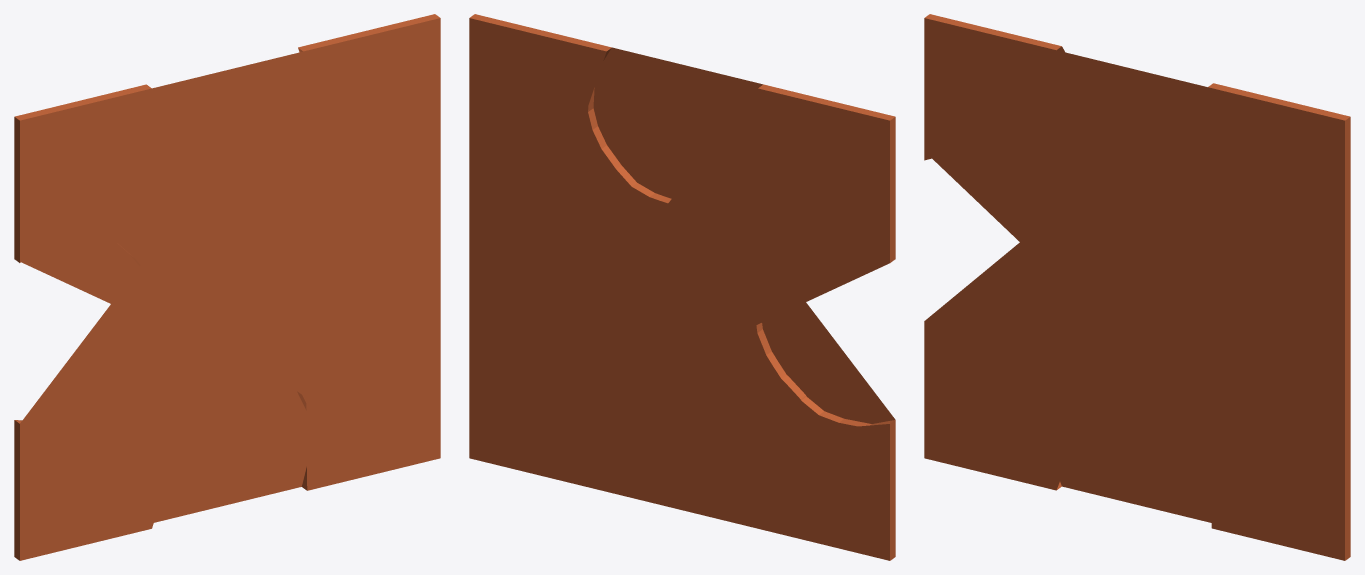
Rendered from SidePiece4.obj.
3 renders of one model, left to right at view 1: azimuth 30°, elevation 25°; view 2: azimuth 150°, elevation 25°; view 3: azimuth 330°, elevation 25°, orthographic.
Visible parts, largest first — view 1: Cap_1, Cap_2, Extrude; view 2: Cap_2, Cap_1, Extrude; view 3: Cap_1, Cap_2, Extrude.
Boxes of the visible parts, <box> form: Cap_1: <box>20,18,440,560</box>; Cap_2: <box>16,48,306,522</box>; Extrude: <box>14,14,439,560</box>; Cap_2: <box>469,18,889,560</box>; Cap_1: <box>593,47,895,423</box>; Extrude: <box>470,14,895,560</box>; Cap_1: <box>924,18,1344,560</box>; Cap_2: <box>932,47,1211,522</box>; Extrude: <box>925,14,1350,560</box>.
Size of the model in its own units: 0.6978 by 0.6978 by 0.0158.
